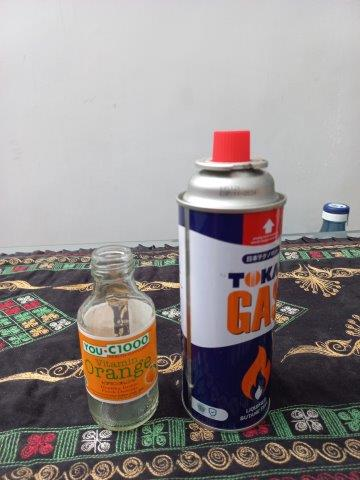botolkaca: (79, 246, 159, 430)
kaleng: (177, 131, 288, 434)
